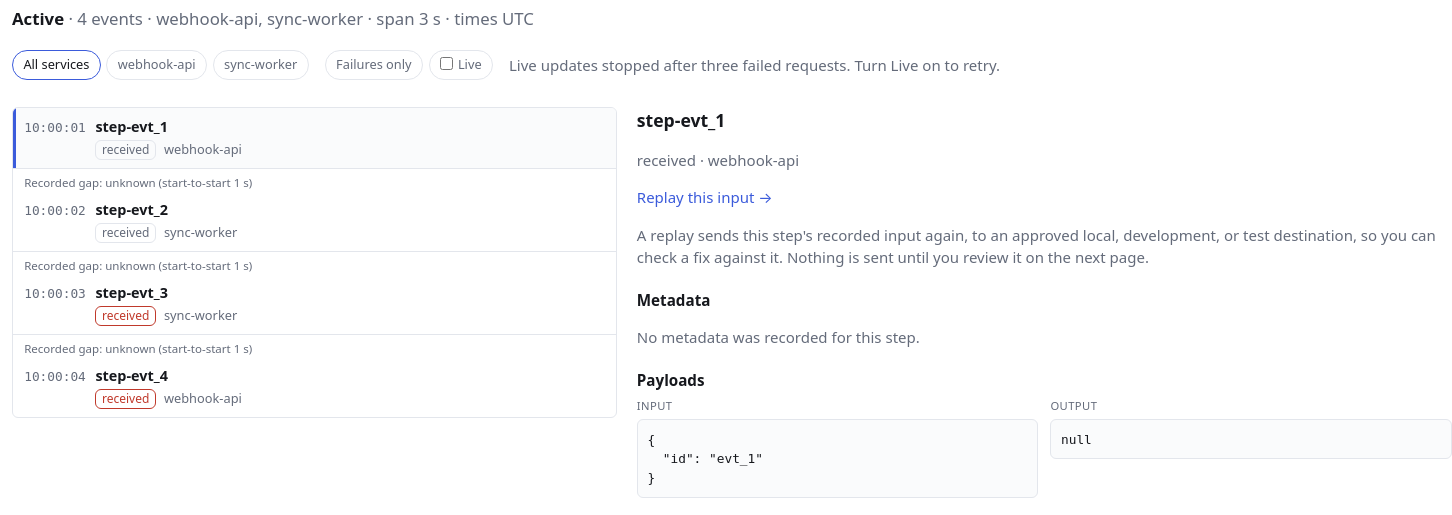
Test case: JourneyTimeline › gives the failure budget back when Live is switched on again
Click the checkbox labelled "Live" at [446, 64], box [440,57,453,70]
Wait 4000 ms
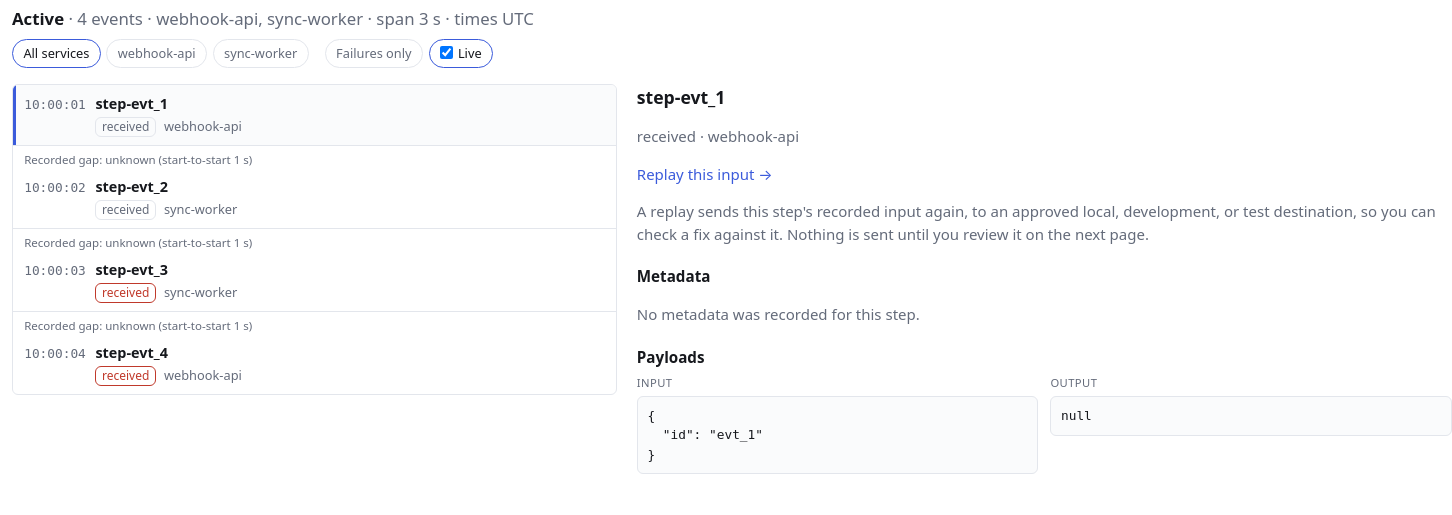
Now the checkbox labelled "Live" is checked, box [440,46,453,59]
Now the text "Live updates stopped" is gone
